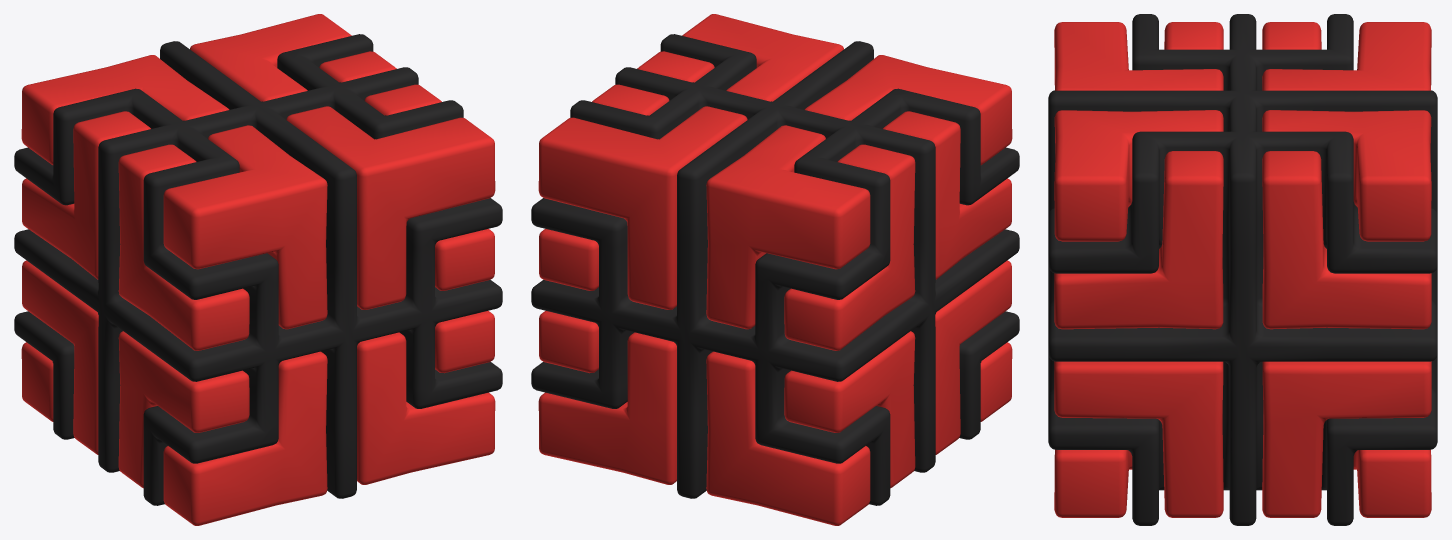
Rendered from Ball.fbx.
3 renders of one model, left to right at view 1: azimuth 30°, elevation 25°; view 2: azimuth 150°, elevation 25°; view 3: azimuth 270°, elevation 25°, orthographic. The views are drawn at different scales.
Parts seen in each view (by area): view 1: Ball2; view 2: Ball2; view 3: Ball2.
Part boxes in pixels (<box>): Ball2: <box>14,14,502,525</box>; Ball2: <box>531,14,1019,525</box>; Ball2: <box>1048,14,1437,525</box>.
Bounding box in the file's own units: 100 × 100 × 100.
